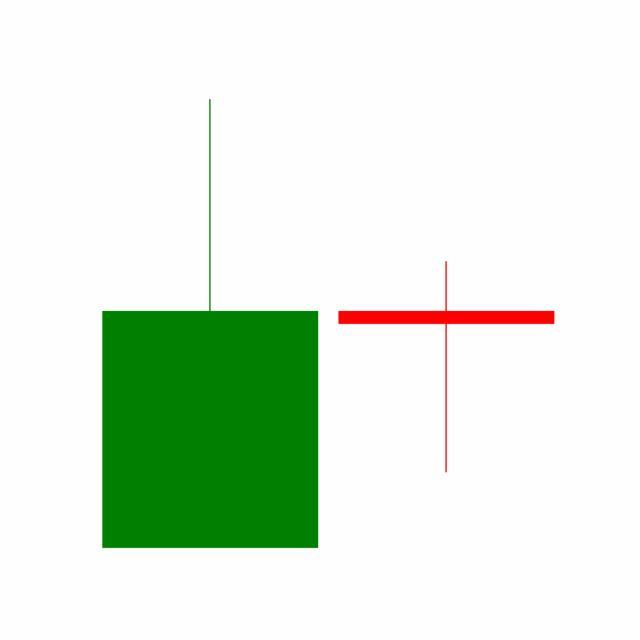Spinning Top: (328, 259, 566, 476)
